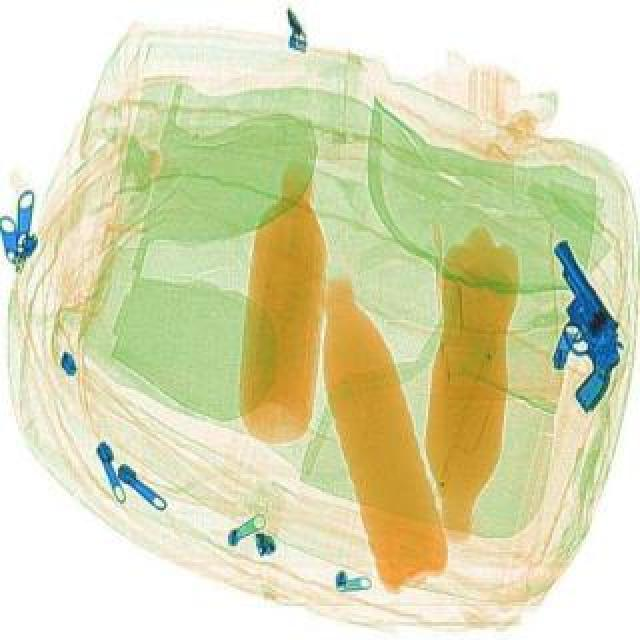gun: (524, 232, 640, 416)
